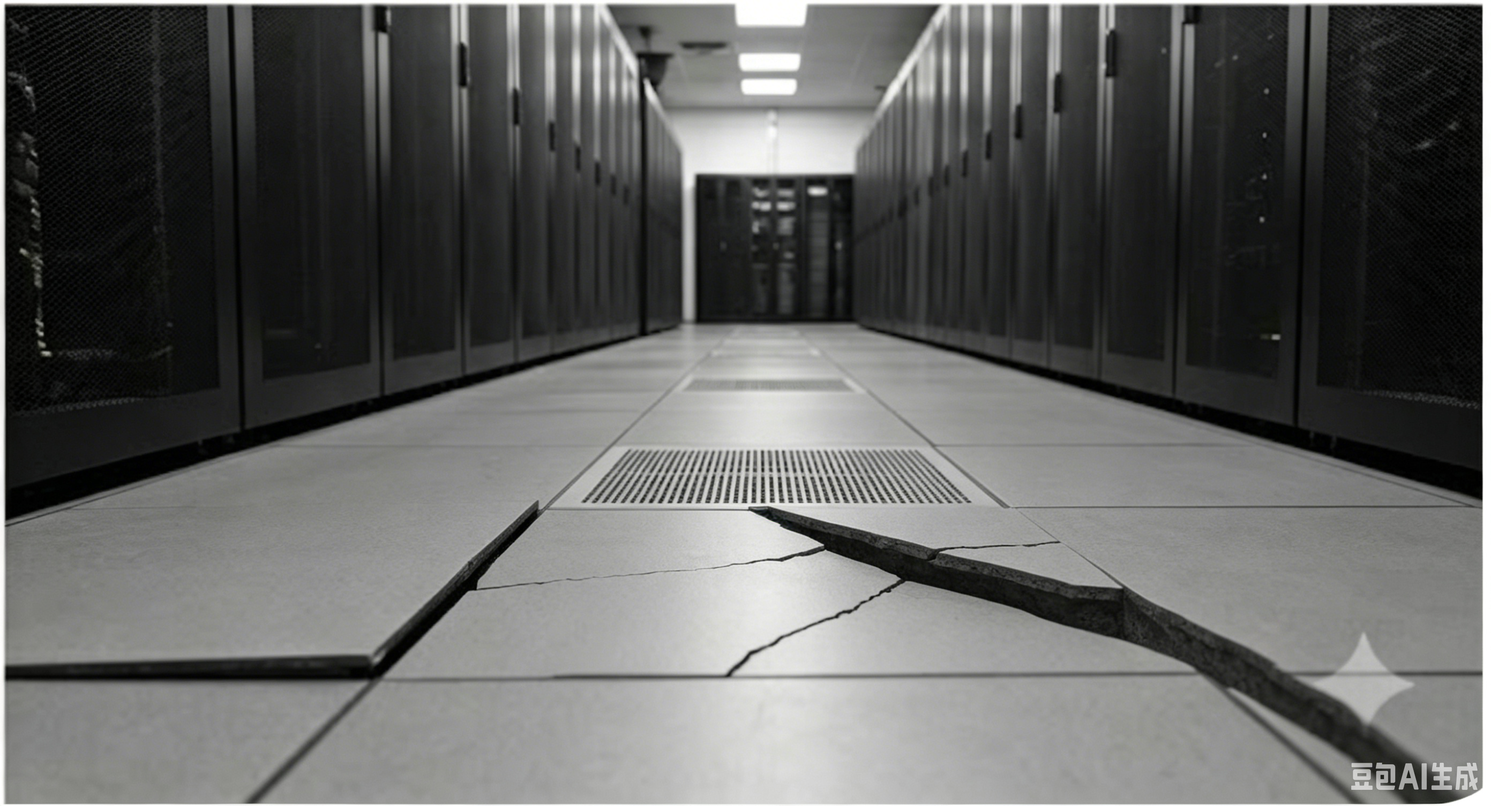floor_defect: (729, 467, 1125, 686), (1131, 587, 1438, 803), (10, 645, 443, 695), (460, 499, 557, 605), (386, 562, 466, 650), (563, 556, 734, 591)
